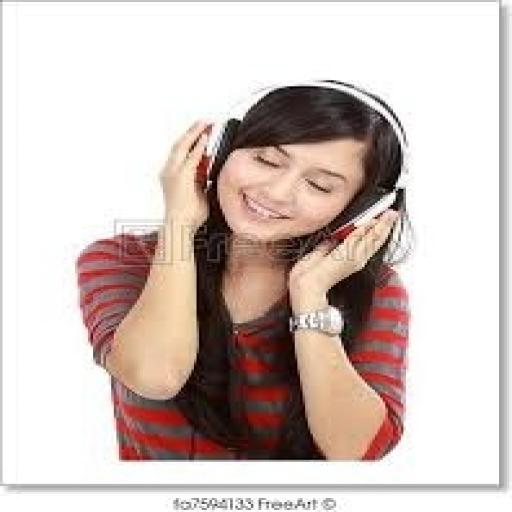listening_to_music: (72, 78, 416, 462)
